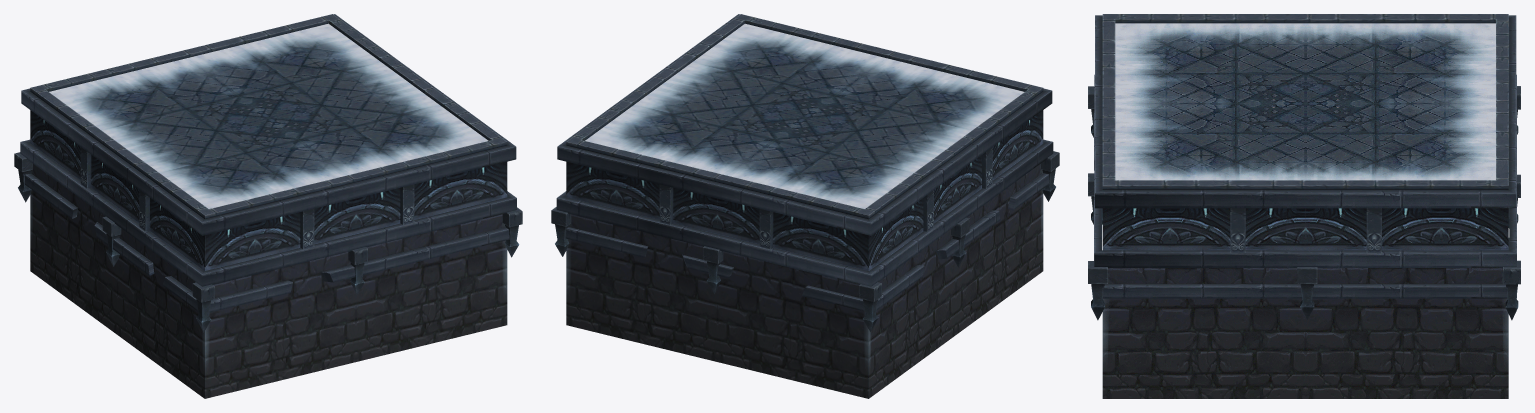
Rendered from Ice_platform03.FBX.
3 renders of one model, left to right at view 1: azimuth 30°, elevation 25°; view 2: azimuth 150°, elevation 25°; view 3: azimuth 270°, elevation 25°, orthographic. The views are drawn at different scales.
Parts seen in each view (by area): view 1: Object15710; view 2: Object15710; view 3: Object15710.
Part boxes in pixels (<box>): Object15710: <box>14,14,522,398</box>; Object15710: <box>551,14,1059,398</box>; Object15710: <box>1088,14,1520,398</box>.
Size of the model in its own units: 1714 by 931 by 1713.
